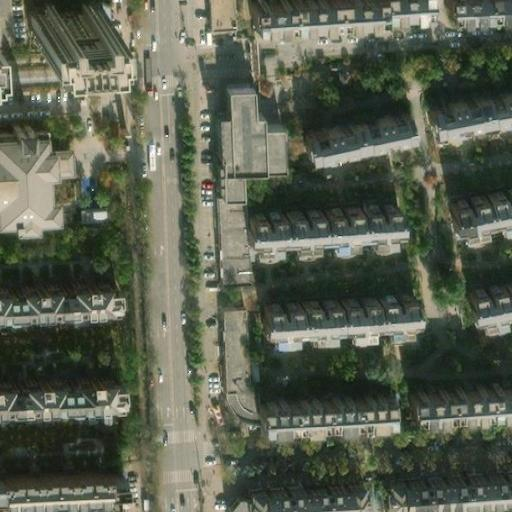building: (255, 280, 414, 324), (241, 188, 389, 232), (0, 121, 61, 226), (296, 92, 405, 145), (205, 84, 272, 169), (377, 470, 512, 503), (255, 394, 385, 428), (0, 456, 118, 493), (420, 72, 512, 119), (238, 478, 357, 512), (0, 370, 117, 401), (0, 273, 115, 304), (245, 0, 423, 20), (405, 386, 512, 419), (441, 176, 512, 222), (209, 168, 238, 276), (22, 0, 97, 33), (463, 264, 512, 309), (213, 303, 238, 385), (80, 483, 118, 512), (201, 0, 227, 20)
